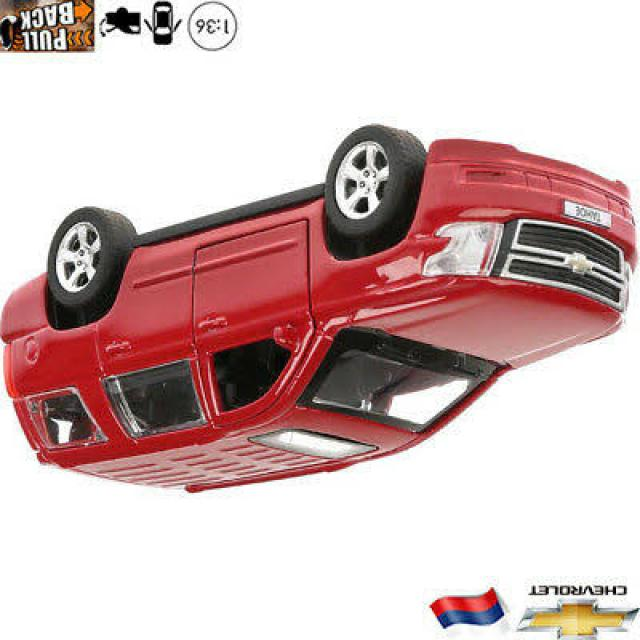Car: (2, 125, 640, 496)
